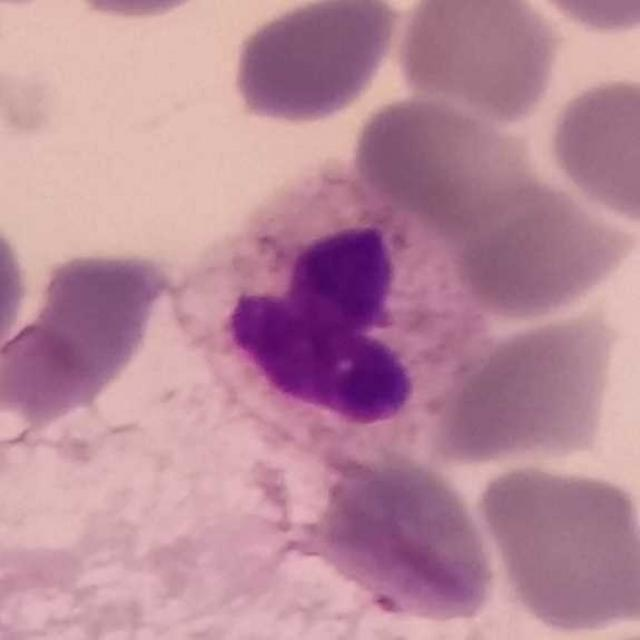Neutrophil: (156, 152, 502, 478)
RBC: (424, 302, 623, 469), (309, 453, 502, 624), (2, 246, 183, 426), (473, 454, 640, 634), (448, 167, 636, 324), (350, 90, 536, 232), (227, 0, 405, 128), (393, 0, 564, 125), (544, 71, 640, 227), (306, 586, 511, 640), (0, 204, 33, 373), (512, 0, 640, 37), (49, 0, 228, 24)
